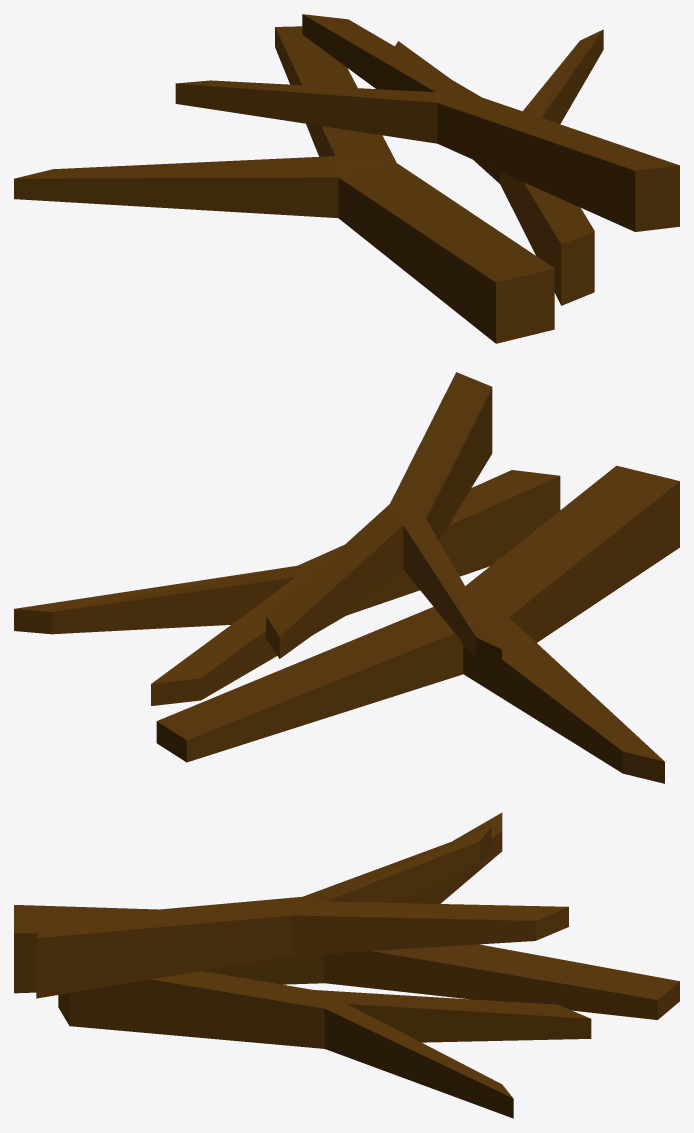
Rendered from inv_dry_sticks.obj.
3 views of the same model, one above another, from view 1: azimuth 30°, elevation 25°; view 2: azimuth 150°, elevation 25°; view 3: azimuth 270°, elevation 25° (orthographic). The views are drawn at different scales.
Size of the model in its own units: 0.4766 by 0.0938 by 0.4688.
